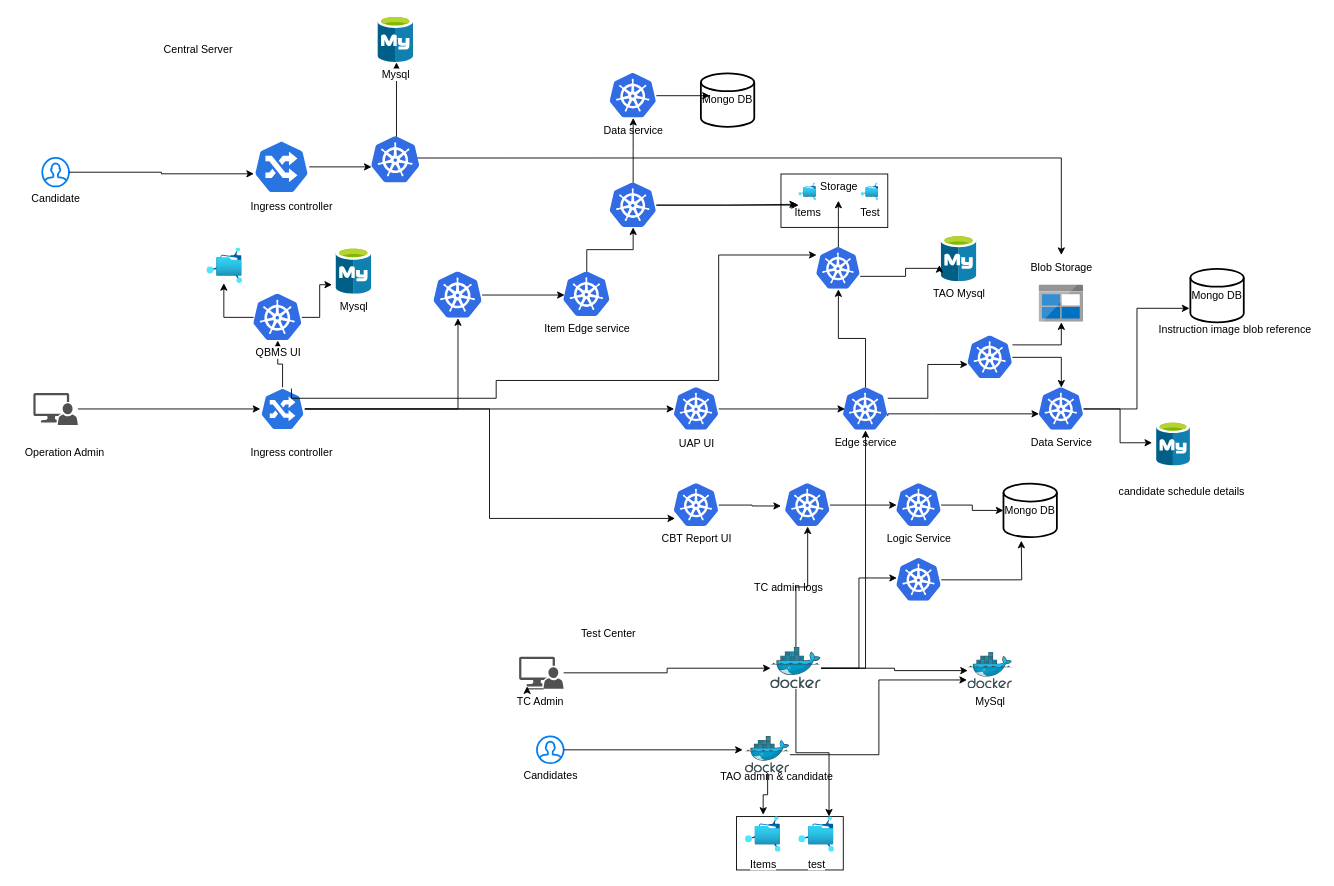
Image size: 1334x886. Some labels were removed from this diagram. Each missing label, with the box of its shape:
Admid Card: (371, 136, 419, 182)
cbt report Analytics service: (896, 558, 941, 601)
Item UI Service: (433, 271, 482, 318)
Question service: (610, 182, 656, 227)
Report Edge service: (785, 483, 829, 526)
Schedule Service: (967, 336, 1012, 378)
Tao Authoring service: (816, 247, 860, 289)
TC Admin Service: (770, 647, 821, 688)
UAP Mysql: (1156, 421, 1190, 465)
uploads: (206, 247, 242, 283)
